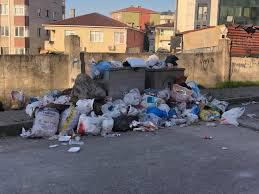Container: (103, 69, 146, 92), (146, 70, 184, 87)
Garbage: (150, 90, 245, 129), (93, 96, 172, 134), (30, 100, 90, 144), (90, 54, 180, 68), (72, 73, 104, 101)
